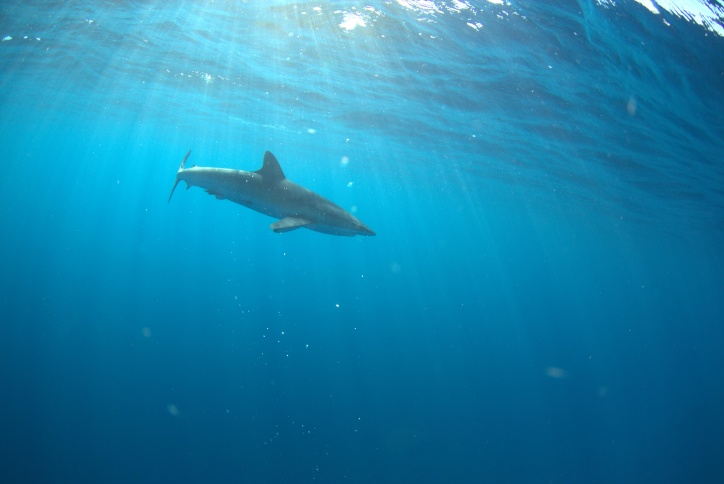Sedoso: (120, 143, 392, 246)
